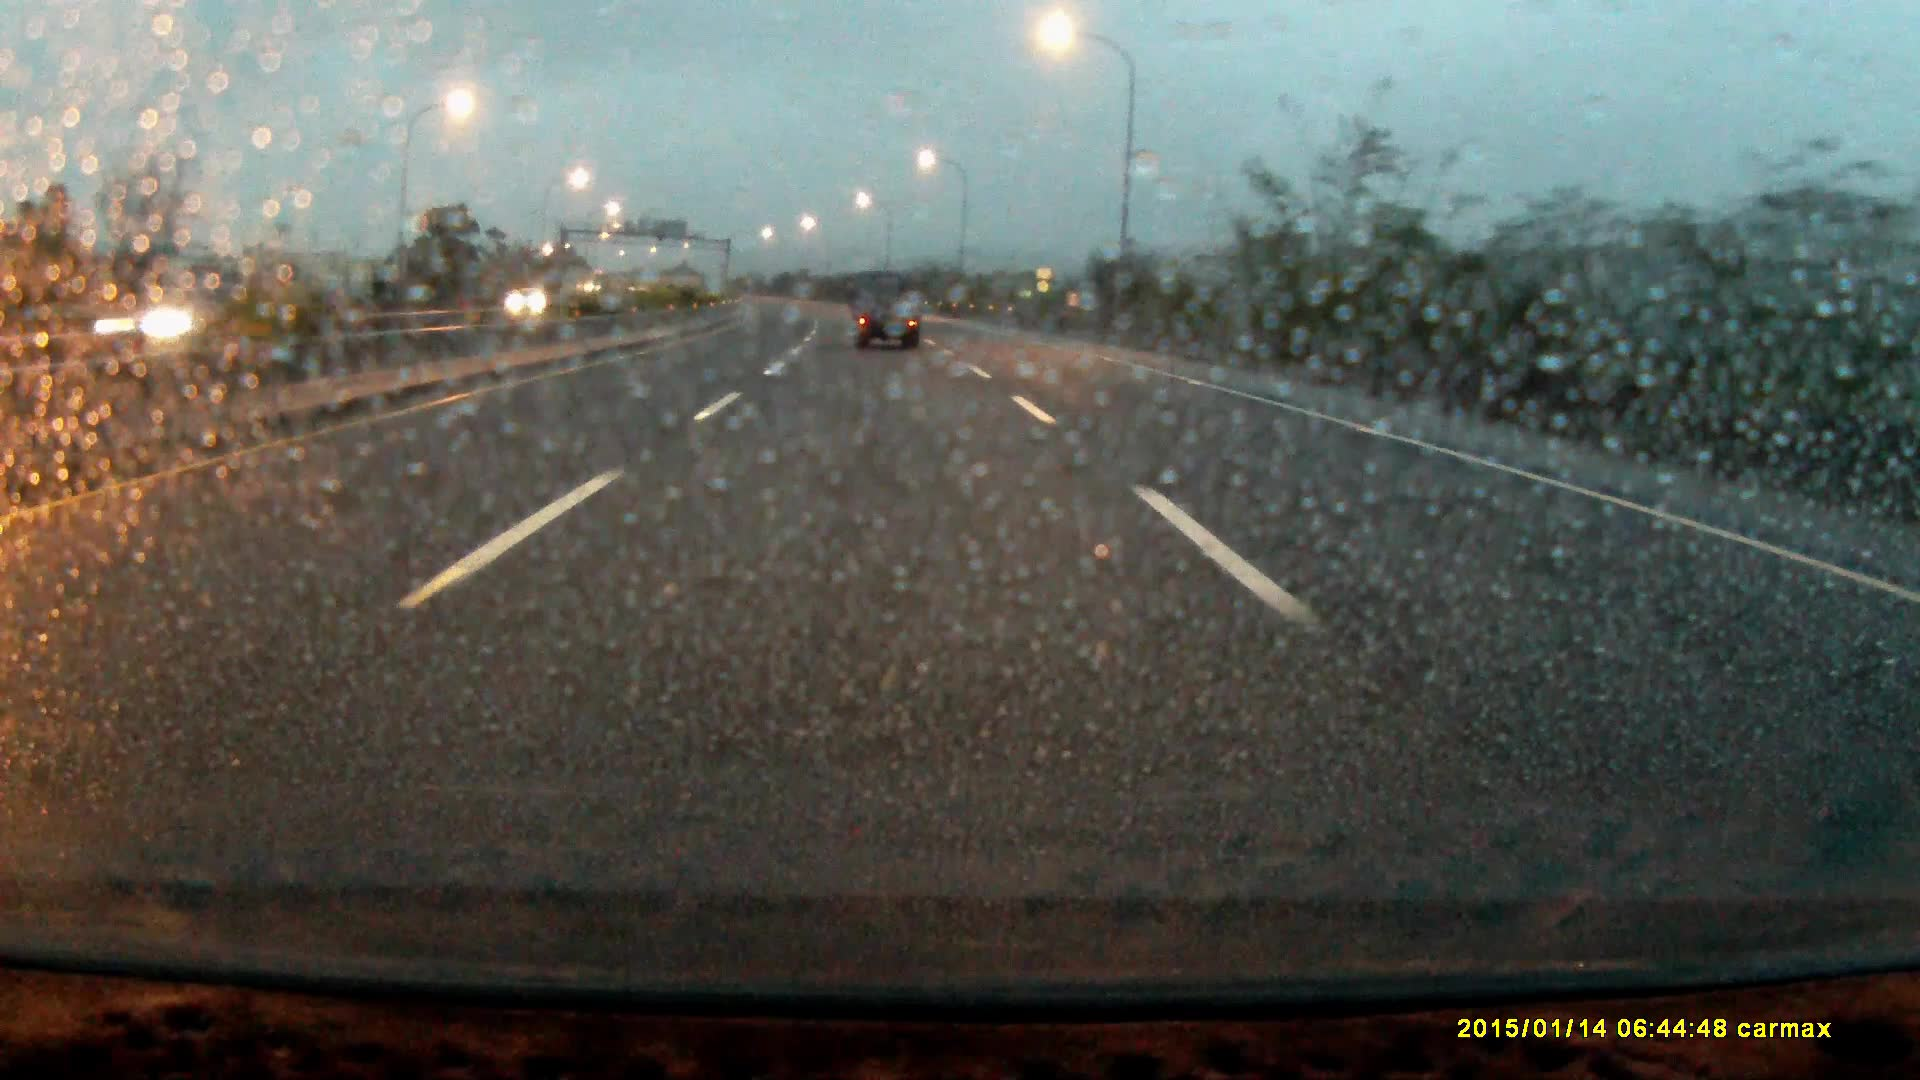vehicle: (848, 273, 922, 352), (506, 289, 567, 320)
